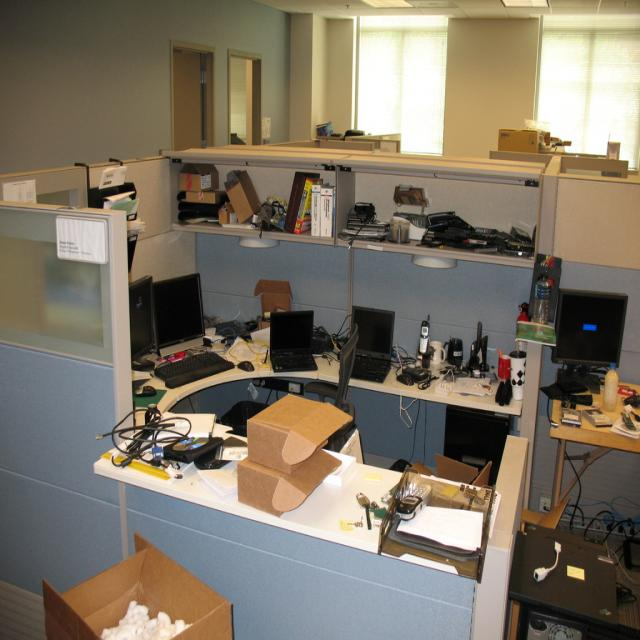Box: (58, 547, 223, 640), (242, 392, 354, 475), (232, 452, 350, 520), (410, 452, 494, 491), (222, 165, 264, 228), (255, 280, 292, 329), (524, 496, 574, 529), (496, 125, 536, 152), (179, 166, 216, 190), (186, 188, 218, 207), (216, 200, 234, 230)
